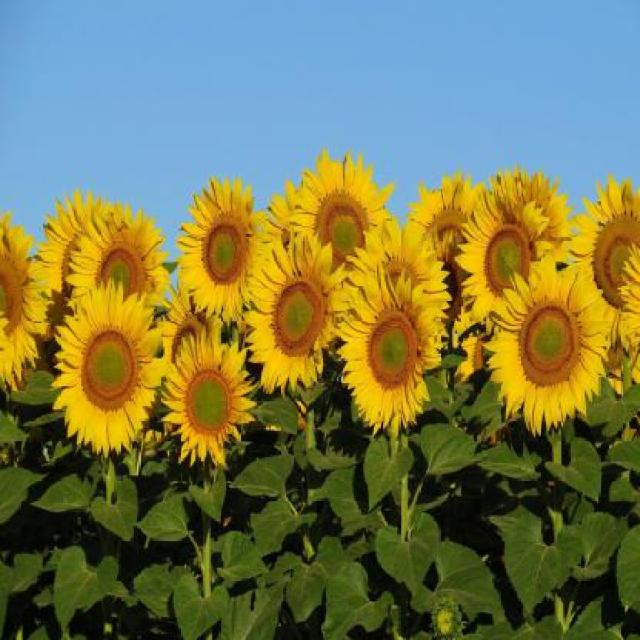sunflower: (488, 250, 616, 452), (333, 255, 448, 459), (54, 285, 161, 483), (163, 176, 280, 324), (243, 237, 342, 406), (164, 327, 265, 476), (287, 153, 399, 284), (66, 196, 170, 336)
